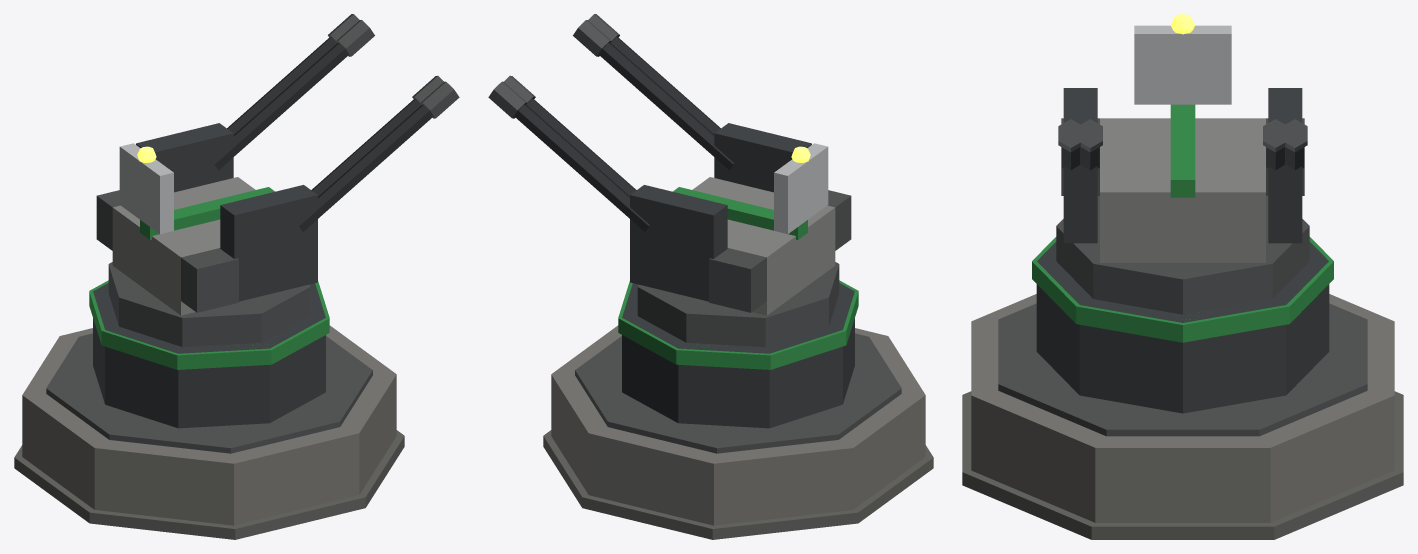
File: aagun_lod1.glb
The picture shows the model from 3 angles, left to right: view 1: azimuth 30°, elevation 25°; view 2: azimuth 150°, elevation 25°; view 3: azimuth 270°, elevation 25°; orthographic projection. The views are drawn at different scales.
Parts seen in each view (by area): view 1: Aagun_LOD1_Foundation, Aagun_LOD1_head, Aagun_LOD1_Frame, Aagun_LOD1_Details; view 2: Aagun_LOD1_Foundation, Aagun_LOD1_head, Aagun_LOD1_Frame, Aagun_LOD1_Details; view 3: Aagun_LOD1_Foundation, Aagun_LOD1_head, Aagun_LOD1_Frame, Aagun_LOD1_Details.
Part boxes in pixels (<box>): Aagun_LOD1_Foundation: <box>14,325,404,539</box>; Aagun_LOD1_head: <box>96,14,459,347</box>; Aagun_LOD1_Frame: <box>93,283,325,428</box>; Aagun_LOD1_Details: <box>89,280,329,369</box>; Aagun_LOD1_Foundation: <box>543,325,933,539</box>; Aagun_LOD1_head: <box>488,14,851,347</box>; Aagun_LOD1_Frame: <box>622,283,854,428</box>; Aagun_LOD1_Details: <box>618,280,858,369</box>; Aagun_LOD1_Foundation: <box>962,294,1403,539</box>; Aagun_LOD1_head: <box>1056,14,1309,314</box>; Aagun_LOD1_Frame: <box>1036,242,1329,413</box>; Aagun_LOD1_Details: <box>1032,237,1333,342</box>.
Bounding box in the file's own units: 1.03 × 0.9974 × 0.9054.
